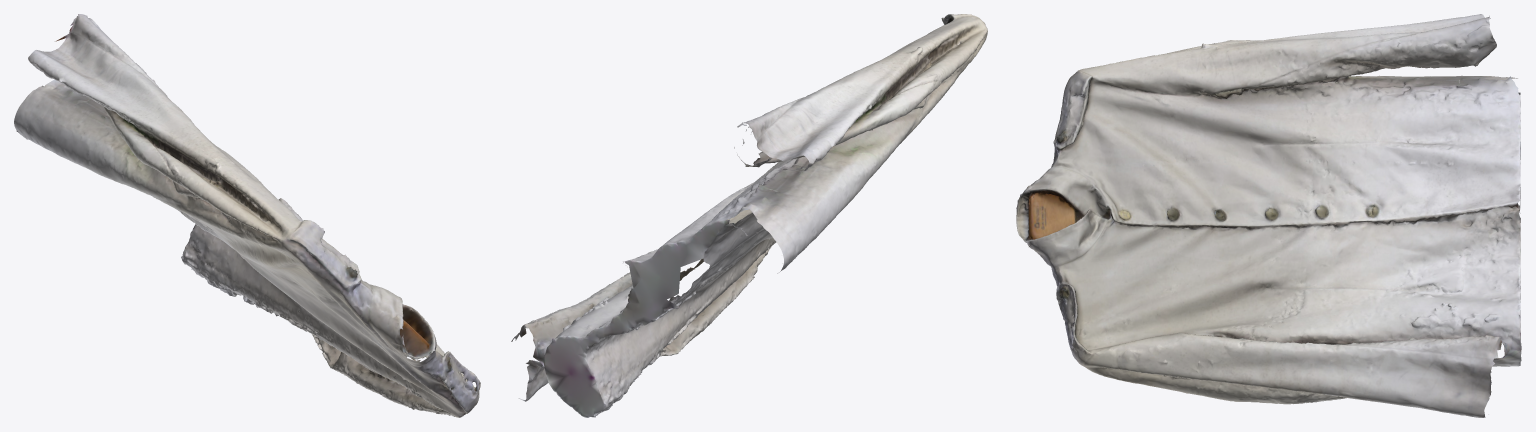
The model's file is figurino_exercito_otimizado.glb.
3 renders of one model, left to right at view 1: azimuth 30°, elevation 25°; view 2: azimuth 150°, elevation 25°; view 3: azimuth 270°, elevation 25°, orthographic. The views are drawn at different scales.
Parts seen in each view (by area): view 1: Mesh_0_Part_0; view 2: Mesh_0_Part_0; view 3: Mesh_0_Part_0.
Boxes of the visible parts, x1,y1,x2,y2 form: Mesh_0_Part_0: [14, 14, 480, 417]; Mesh_0_Part_0: [511, 14, 987, 417]; Mesh_0_Part_0: [1016, 14, 1521, 417].
Size of the model in its own units: 18.28 by 20.35 by 30.06.
Materials: 1 (1 with a texture image).
